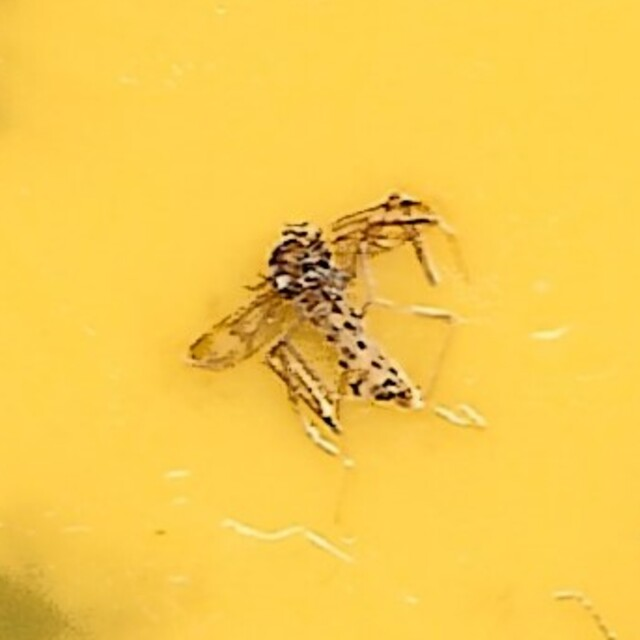Nematocera: (187, 186, 453, 454)
